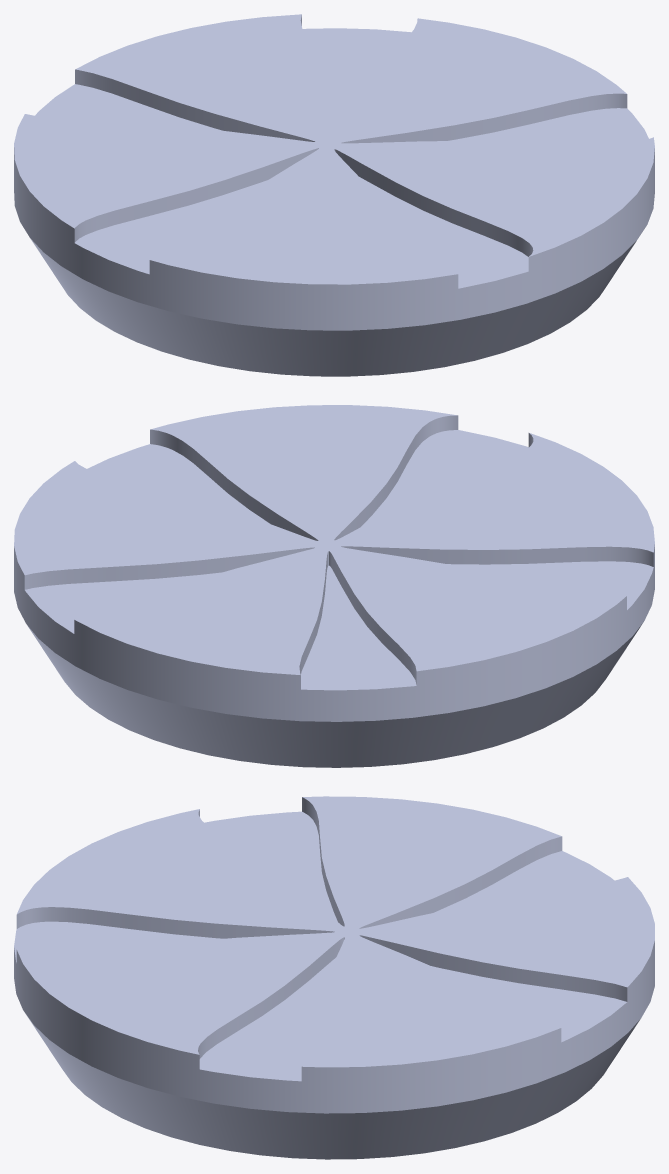
File: CLAMP SCREW CAP.gltf
3 renders of one model, top to bottom at view 1: azimuth 30°, elevation 25°; view 2: azimuth 150°, elevation 25°; view 3: azimuth 270°, elevation 25°, orthographic.
Visible parts, largest first — view 1: CLAMP SCREW CAP; view 2: CLAMP SCREW CAP; view 3: CLAMP SCREW CAP.
Part boxes in pixels (x1,y1,x2,y2): CLAMP SCREW CAP: [14, 14, 654, 376]; CLAMP SCREW CAP: [14, 405, 654, 767]; CLAMP SCREW CAP: [14, 796, 654, 1159].
Size of the model in its own units: 0.016 by 0.003 by 0.016.
